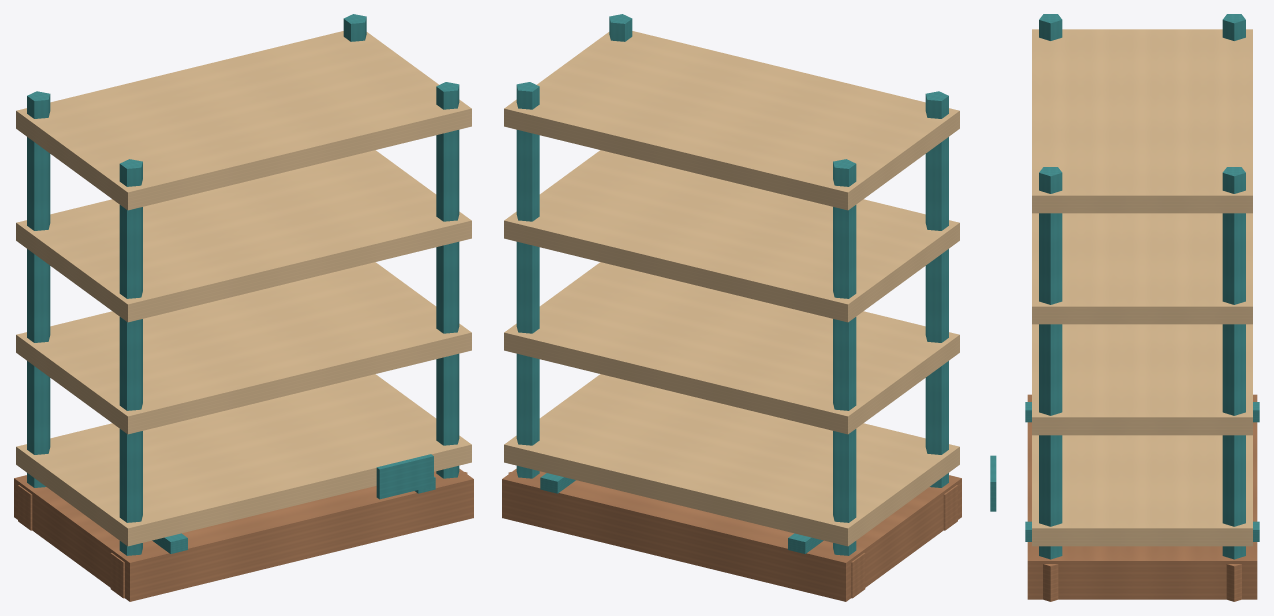
Rendered from atlas100-s094-a06.lod1.glb.
3 views of the same model, side by side, from view 1: azimuth 30°, elevation 25°; view 2: azimuth 150°, elevation 25°; view 3: azimuth 270°, elevation 25° (orthographic).
Visible parts, largest first — view 1: atlas100-s094-a06:part-014, atlas100-s094-a06:part-013, atlas100-s094-a06:part-012, atlas100-s094-a06:part-011, atlas100-s094-a06:part-000, atlas100-s094-a06:part-005, atlas100-s094-a06:part-009, atlas100-s094-a06:part-003, atlas100-s094-a06:part-015, atlas100-s094-a06:part-007; view 2: atlas100-s094-a06:part-014, atlas100-s094-a06:part-013, atlas100-s094-a06:part-012, atlas100-s094-a06:part-011, atlas100-s094-a06:part-000, atlas100-s094-a06:part-003, atlas100-s094-a06:part-007, atlas100-s094-a06:part-005, atlas100-s094-a06:part-009; view 3: atlas100-s094-a06:part-014, atlas100-s094-a06:part-011, atlas100-s094-a06:part-012, atlas100-s094-a06:part-013, atlas100-s094-a06:part-000, atlas100-s094-a06:part-007, atlas100-s094-a06:part-009, atlas100-s094-a06:part-008, atlas100-s094-a06:part-010, atlas100-s094-a06:part-003, atlas100-s094-a06:part-005, atlas100-s094-a06:part-015.
Part boxes in pixels (x1,y1,x2,y2): atlas100-s094-a06:part-014: (16,31,471,210); atlas100-s094-a06:part-013: (16,150,471,322); atlas100-s094-a06:part-012: (16,262,471,434); atlas100-s094-a06:part-011: (16,374,471,546); atlas100-s094-a06:part-000: (14,468,473,601); atlas100-s094-a06:part-005: (119,159,142,555); atlas100-s094-a06:part-009: (436,82,459,478); atlas100-s094-a06:part-003: (27,91,50,487); atlas100-s094-a06:part-015: (376,454,433,499); atlas100-s094-a06:part-007: (343,14,366,41); atlas100-s094-a06:part-014: (504,31,959,210); atlas100-s094-a06:part-013: (504,150,959,322); atlas100-s094-a06:part-012: (504,262,959,434); atlas100-s094-a06:part-011: (504,374,959,546); atlas100-s094-a06:part-000: (502,468,961,601); atlas100-s094-a06:part-003: (833,159,856,555); atlas100-s094-a06:part-007: (516,82,539,478); atlas100-s094-a06:part-005: (925,91,948,487); atlas100-s094-a06:part-009: (609,14,632,41); atlas100-s094-a06:part-014: (1032,29,1252,213); atlas100-s094-a06:part-011: (1032,435,1252,546); atlas100-s094-a06:part-012: (1032,324,1252,435); atlas100-s094-a06:part-013: (1032,213,1252,324); atlas100-s094-a06:part-000: (1027,394,1257,599); atlas100-s094-a06:part-007: (1222,167,1245,559); atlas100-s094-a06:part-009: (1039,167,1062,559); atlas100-s094-a06:part-008: (1226,564,1241,601); atlas100-s094-a06:part-010: (1043,564,1058,601); atlas100-s094-a06:part-003: (1222,14,1245,40); atlas100-s094-a06:part-005: (1039,14,1062,40); atlas100-s094-a06:part-015: (990,455,996,511).
Size of the model in its own units: 2.44 by 2.84 by 1.64.
Materials: 3 (3 with a texture image).
